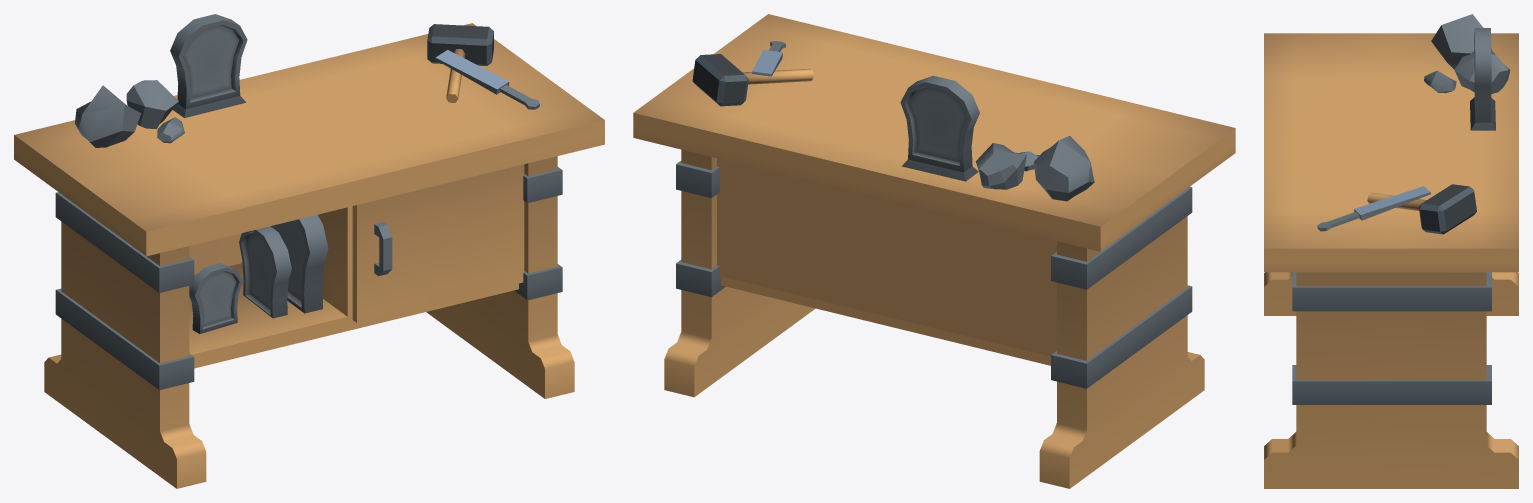
The model's file is StoneShop.fbx.
The picture shows the model from 3 angles, left to right: view 1: azimuth 30°, elevation 25°; view 2: azimuth 150°, elevation 25°; view 3: azimuth 270°, elevation 25°; orthographic projection. The views are drawn at different scales.
Parts seen in each view (by area): view 1: StoneShop; view 2: StoneShop; view 3: StoneShop.
Boxes of the visible parts, x1,y1,x2,y2 form: StoneShop: (14,14,604,488); StoneShop: (633,14,1235,488); StoneShop: (1264,14,1518,488).
Size of the model in its own units: 2 by 1.46 by 1.
